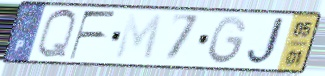7: (166, 12, 201, 65)
F: (67, 9, 119, 62)
G: (206, 14, 249, 67)
J: (244, 16, 291, 68)
M: (113, 12, 165, 63)
Q: (35, 7, 79, 61)
